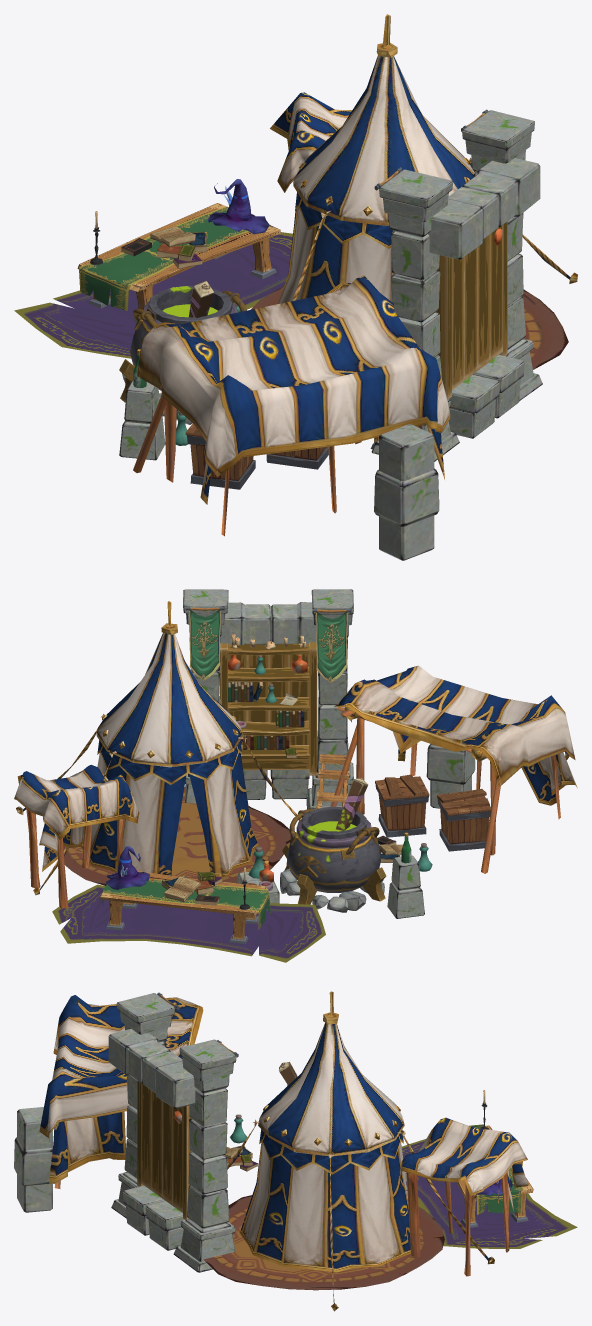
File: MainCityDecor_Archive_Tent.glb
The picture shows the model from 3 angles, top to bottom: view 1: azimuth 30°, elevation 25°; view 2: azimuth 150°, elevation 25°; view 3: azimuth 270°, elevation 25°; orthographic projection. The views are drawn at different scales.
Visible parts, largest first — view 1: EnvCampsite_Detail__Tent___Basics___3__un7009299224487776299, EnvCampsite_Detail__Tent___Basics___2__un6117804067601698859, EnvCampsite_Detail__Rug__1__u1355163925982228437, SM_PROP_bookshelf_dungeon_02__un8331334377578025003, EnvCampsite_Detail__Stele__5__u3580280511687831509, EnvCampsite_Detail__Stele__9__u3453043169153003477, SM_PROP_rug_table_01__u7020653376418688981, EnvCampsite_Detail__Pot___1__un3835381585819914283, EnvCampsite_Detail__Stele__4_5__u6923369988097257429, EnvCampsite_Detail__Tent___Basics___4__un677598367119298603, EnvCampsite_Detail__Table__3__un5112261848805855275, EnvCampsite_Detail__Stele__4_4__un6422710099519066155 (+12 smaller); view 2: EnvCampsite_Detail__Tent___Basics___2__un6117804067601698859, EnvCampsite_Detail__Tent___Basics___3__un7009299224487776299, EnvCampsite_Detail__Rug__1__u1355163925982228437, SM_PROP_bookshelf_dungeon_02__un8331334377578025003, EnvCampsite_Detail__Tent___Basics___4__un677598367119298603, EnvCampsite_Detail__Pot___1__un3835381585819914283, EnvCampsite_Detail__Rug__3__un485932629185843243, EnvCampsite_Detail__Box___2__u6546494250788794325, EnvCampsite_Detail__Box___2_1__un1536754278250565675, EnvCampsite_Detail__Stele__9__u3453043169153003477, EnvCampsite_Detail__Table__3__un5112261848805855275, SM_PROP_rug_table_01__u7020653376418688981 (+19 smaller); view 3: EnvCampsite_Detail__Tent___Basics___2__un6117804067601698859, EnvCampsite_Detail__Tent___Basics___3__un7009299224487776299, EnvCampsite_Detail__Tent___Basics___4__un677598367119298603, EnvCampsite_Detail__Rug__3__un485932629185843243, EnvCampsite_Detail__Stele__9__un7075981197654216747, SM_PROP_bookshelf_dungeon_02__un8331334377578025003, EnvCampsite_Detail__Rug__1__u1355163925982228437, EnvCampsite_Detail__Stele__5__u3580280511687831509, EnvCampsite_Detail__Stele__4_4__un6422710099519066155, EnvCampsite_Detail__Stele__8__u6659778776858439637, EnvCampsite_Detail__Stele__4_5__u6923369988097257429, P_MOD_Column_01_capital__u8981483411905130453 (+8 smaller).
Boxes of the visible parts, x1,y1,x2,y2 form: EnvCampsite_Detail__Tent___Basics___3__un7009299224487776299: (133,275,450,536); EnvCampsite_Detail__Tent___Basics___2__un6117804067601698859: (278,14,577,303); EnvCampsite_Detail__Rug__1__u1355163925982228437: (14,232,292,358); SM_PROP_bookshelf_dungeon_02__un8331334377578025003: (436,221,507,399); EnvCampsite_Detail__Stele__5__u3580280511687831509: (374,424,439,560); EnvCampsite_Detail__Stele__9__u3453043169153003477: (388,214,441,378); SM_PROP_rug_table_01__u7020653376418688981: (79,207,270,310); EnvCampsite_Detail__Pot___1__un3835381585819914283: (119,280,246,402); EnvCampsite_Detail__Stele__4_5__u6923369988097257429: (428,186,498,259); EnvCampsite_Detail__Tent___Basics___4__un677598367119298603: (270,92,352,220); EnvCampsite_Detail__Table__3__un5112261848805855275: (77,203,280,322); EnvCampsite_Detail__Stele__4_4__un6422710099519066155: (462,158,540,227); EnvCampsite_Detail__Tent___Basics___2__un6117804067601698859: (16,601,301,895); EnvCampsite_Detail__Tent___Basics___3__un7009299224487776299: (330,665,577,873); EnvCampsite_Detail__Rug__1__u1355163925982228437: (52,884,325,962); SM_PROP_bookshelf_dungeon_02__un8331334377578025003: (220,642,317,775); EnvCampsite_Detail__Tent___Basics___4__un677598367119298603: (14,765,139,908); EnvCampsite_Detail__Pot___1__un3835381585819914283: (282,778,386,904); EnvCampsite_Detail__Rug__3__un485932629185843243: (63,787,291,885); EnvCampsite_Detail__Box___2__u6546494250788794325: (437,788,490,851); EnvCampsite_Detail__Box___2_1__un1536754278250565675: (375,774,429,837); EnvCampsite_Detail__Stele__9__u3453043169153003477: (315,625,350,777); EnvCampsite_Detail__Table__3__un5112261848805855275: (100,870,268,943); SM_PROP_rug_table_01__u7020653376418688981: (102,879,270,929); EnvCampsite_Detail__Tent___Basics___2__un6117804067601698859: (227,991,494,1311); EnvCampsite_Detail__Tent___Basics___3__un7009299224487776299: (39,995,203,1188); EnvCampsite_Detail__Tent___Basics___4__un677598367119298603: (399,1117,528,1276); EnvCampsite_Detail__Rug__3__un485932629185843243: (203,1195,444,1290); EnvCampsite_Detail__Stele__9__un7075981197654216747: (185,1074,230,1232); SM_PROP_bookshelf_dungeon_02__un8331334377578025003: (137,1080,191,1219); EnvCampsite_Detail__Rug__1__u1355163925982228437: (401,1139,577,1248); EnvCampsite_Detail__Stele__5__u3580280511687831509: (14,1107,52,1212); EnvCampsite_Detail__Stele__4_4__un6422710099519066155: (143,1051,196,1108); EnvCampsite_Detail__Stele__8__u6659778776858439637: (173,1219,235,1272); EnvCampsite_Detail__Stele__4_5__u6923369988097257429: (108,1029,170,1083); P_MOD_Column_01_capital__u8981483411905130453: (116,993,175,1034).
Size of the model in its own units: 9.88 by 6.13 by 11.25.
Materials: 15 (15 with a texture image).
